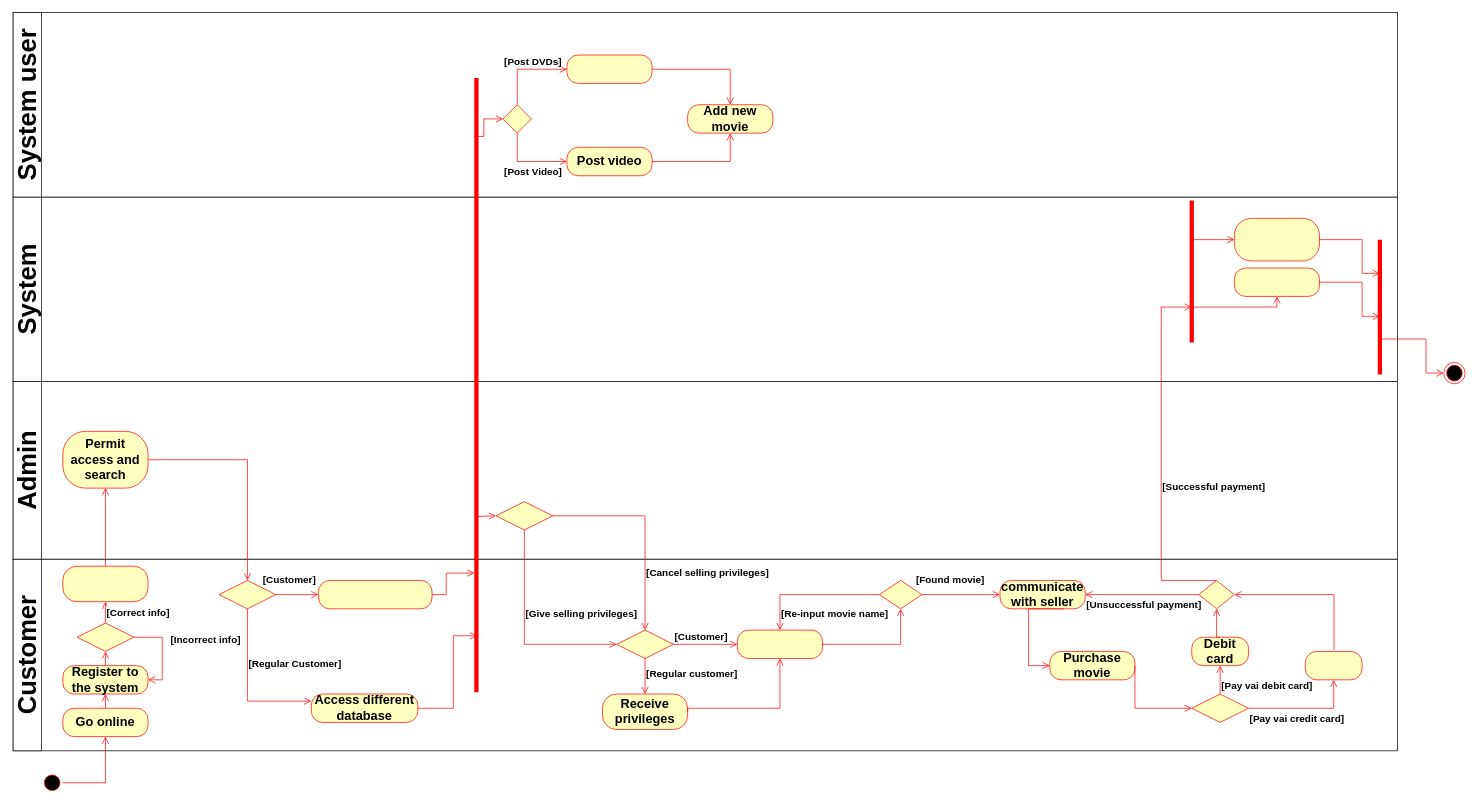
Image size: 1478x806. Some labels were removed from this diagram. Here are the shapes that lost their labels. From the top down, the centre of each, then its label:
At (609,68): "Post DVDs".
At (1277,239): "Remove from profile".
At (1277,281): "Email invoice".
At (105,584): "Send to administrator".
At (375,594): "Access permitted database".
At (780,644): "Search for a movie".
At (1333,665): "Credit card".
